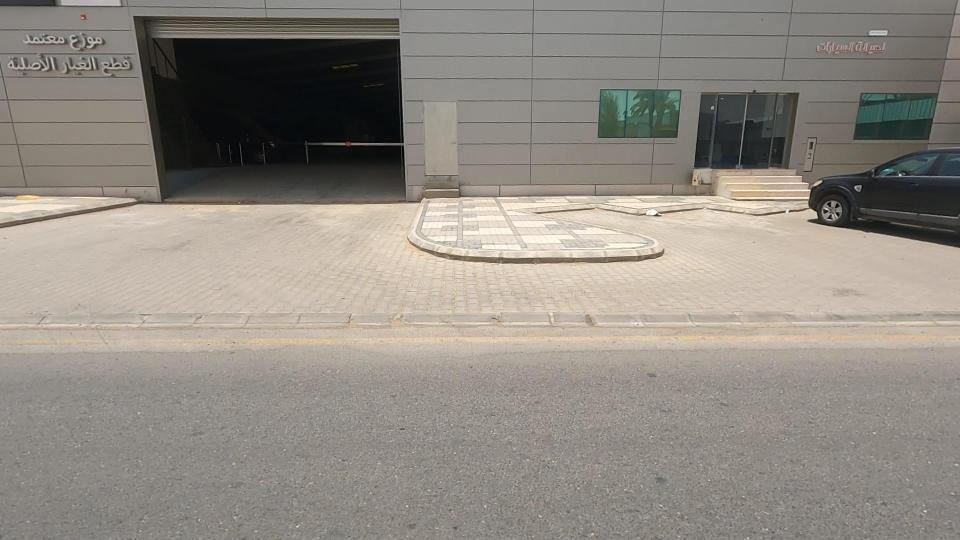GARBAGE: (615, 192, 688, 240)
